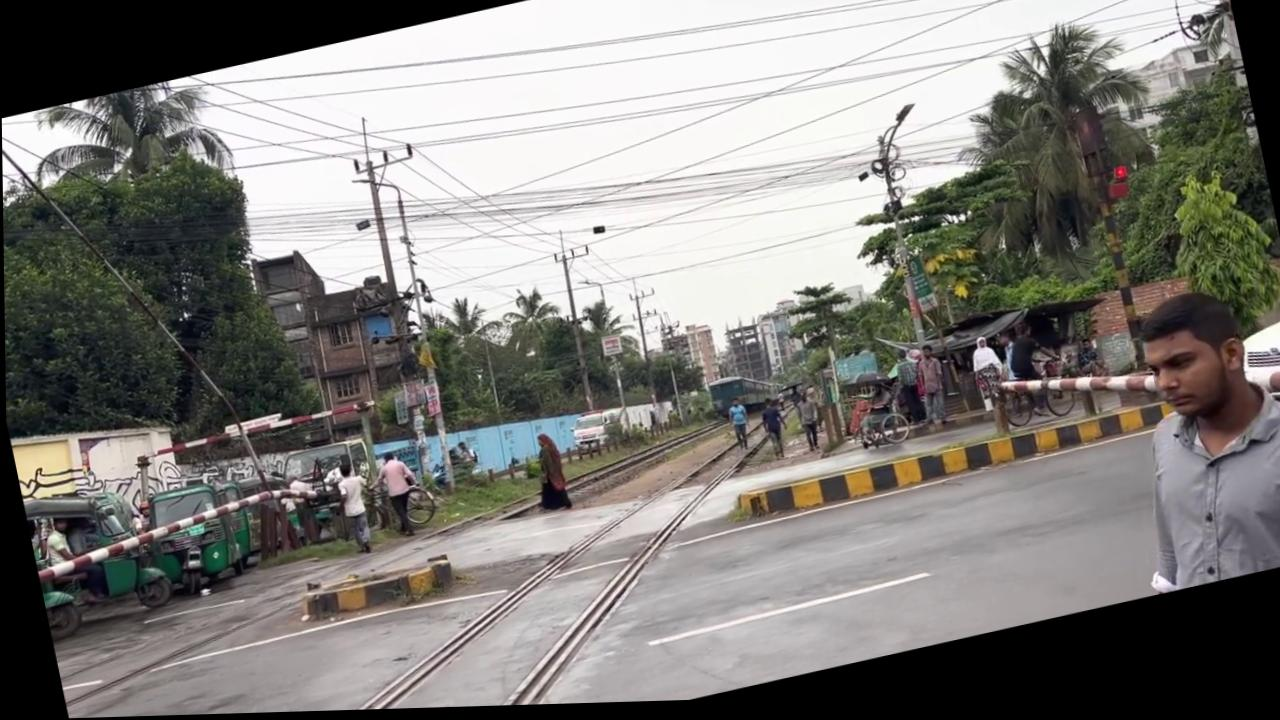Car: (730, 401, 1174, 528)
Fence: (1091, 277, 1280, 603), (363, 447, 425, 544), (327, 460, 382, 559), (524, 432, 570, 517), (721, 398, 752, 456)
Garbage: (852, 104, 975, 411), (1069, 107, 1154, 382), (548, 222, 639, 415)
Motorcycle: (178, 393, 849, 716)
Railroad-crossing: (1152, 164, 1280, 358)
Rickshaw: (21, 471, 174, 641), (273, 434, 386, 551)
